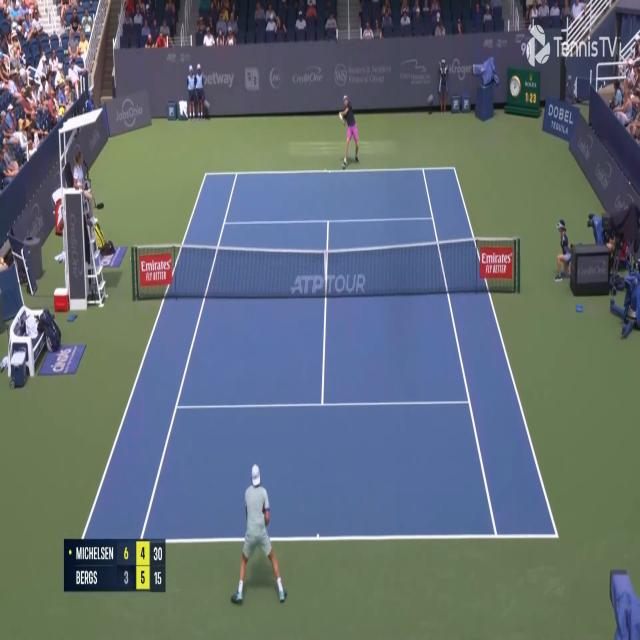tennis-player: (229, 459, 292, 611), (338, 94, 361, 170)
